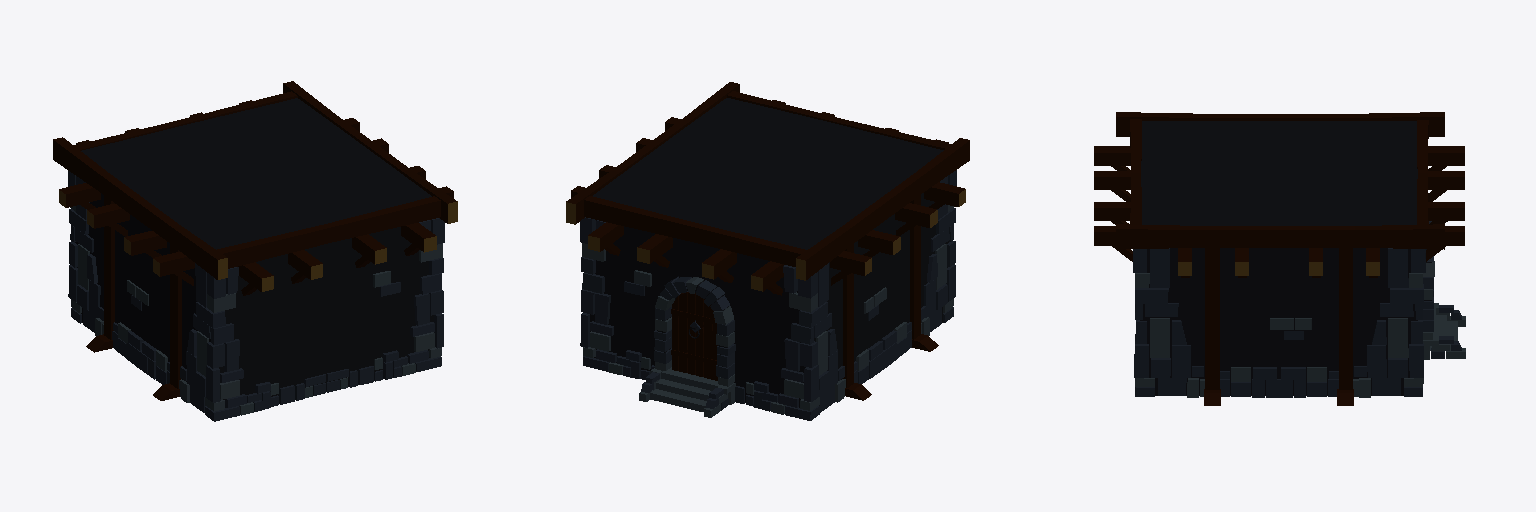
Rendered from House_4_Cube.obj.
The picture shows the model from 3 angles: view 1: azimuth 30°, elevation 25°; view 2: azimuth 150°, elevation 25°; view 3: azimuth 270°, elevation 25°; orthographic projection.
Parts seen in each view (by area): view 1: House_4_Cube.037; view 2: House_4_Cube.037; view 3: House_4_Cube.037.
Part boxes in pixels (x1,y1,x2,y2): House_4_Cube.037: (53, 81, 457, 421); House_4_Cube.037: (566, 82, 969, 420); House_4_Cube.037: (1094, 112, 1465, 405).
Size of the model in its own units: 1.94 by 1.07 by 2.12.